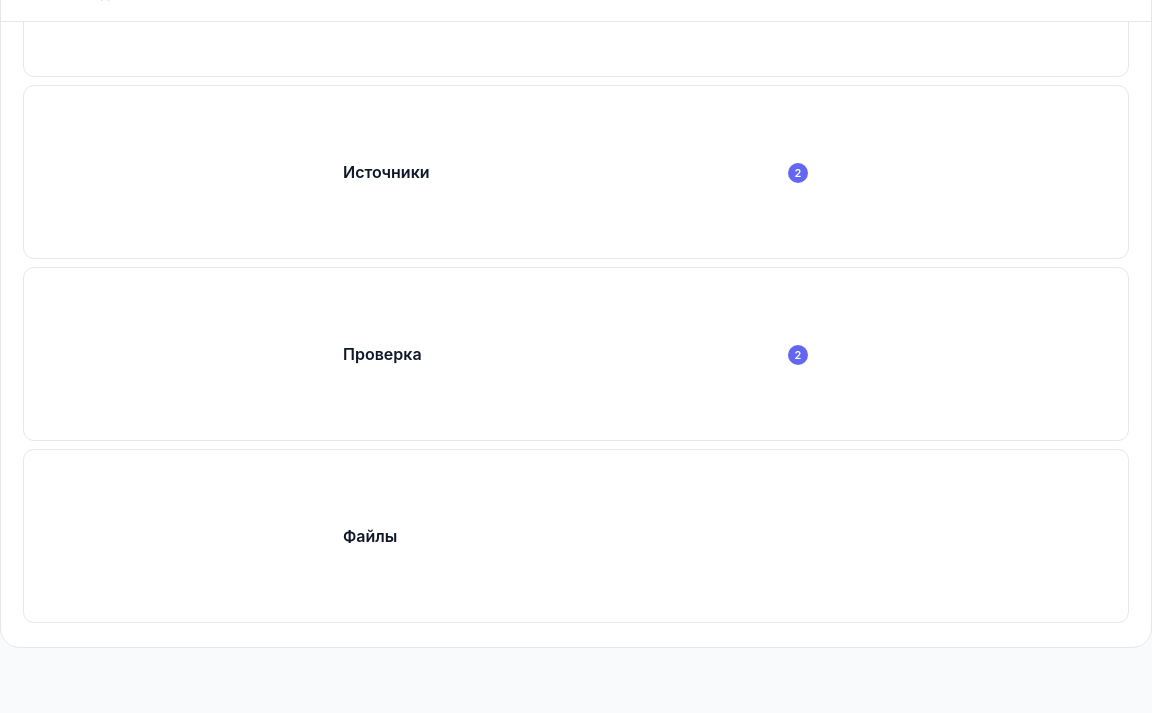
it: ProgramPreviewComponent › shows a passed self-check without problem highlighting
(page scrolled)
Click the button "Проверка 2" at (576, 354), box left=24, top=268, right=1128, bottom=440
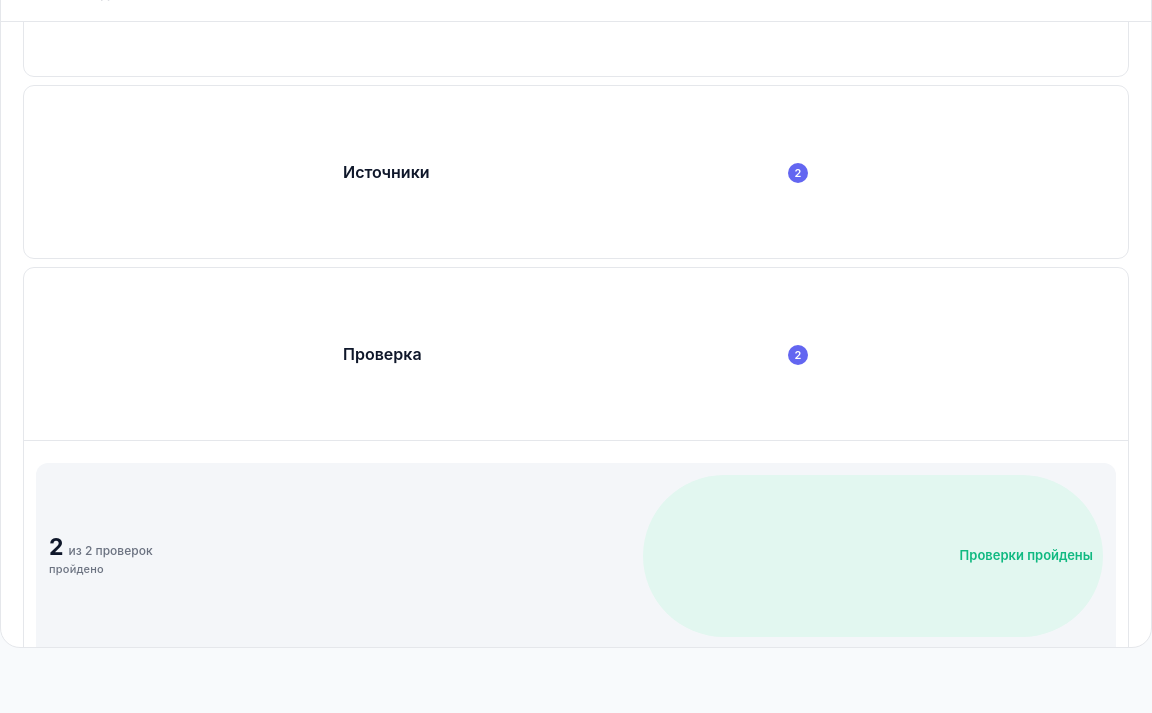
Check: the text "Проверки пройдены" is shown, box left=643, top=475, right=1103, bottom=637
Check: the element showing "2 из 2 проверок" is shown, box left=49, top=536, right=153, bottom=559
